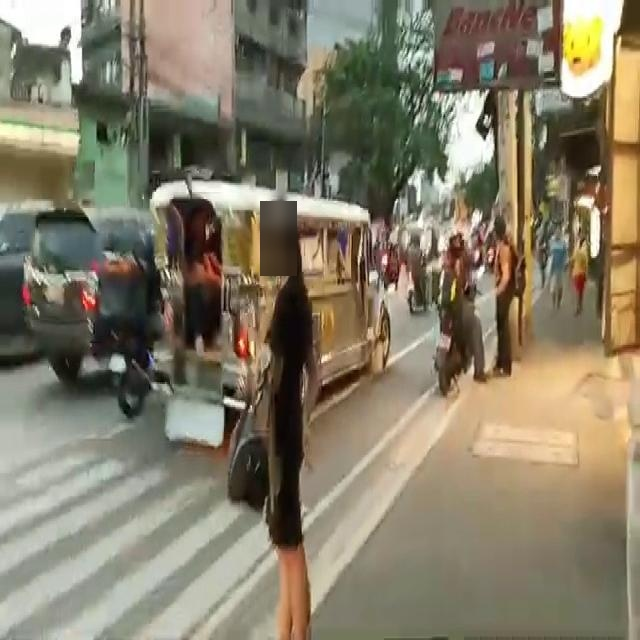car: (32, 215, 111, 370)
jeepney: (171, 178, 385, 434)
motorcycle: (444, 239, 482, 411)
